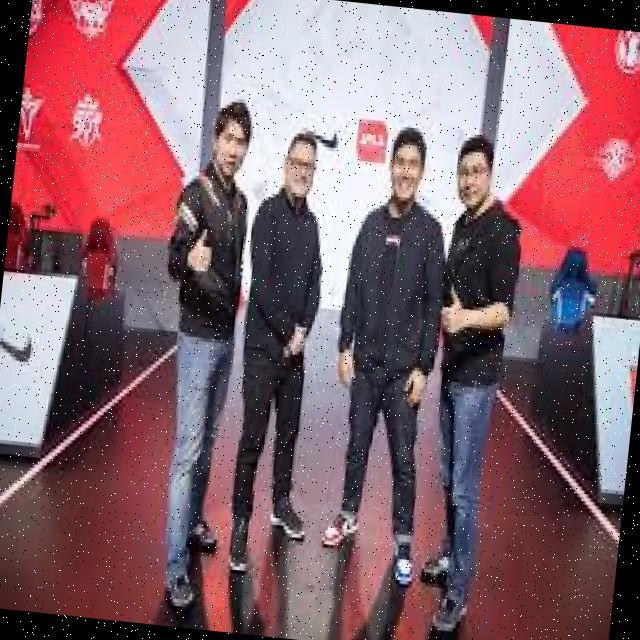Nike: (0, 323, 37, 370), (298, 119, 347, 152)
